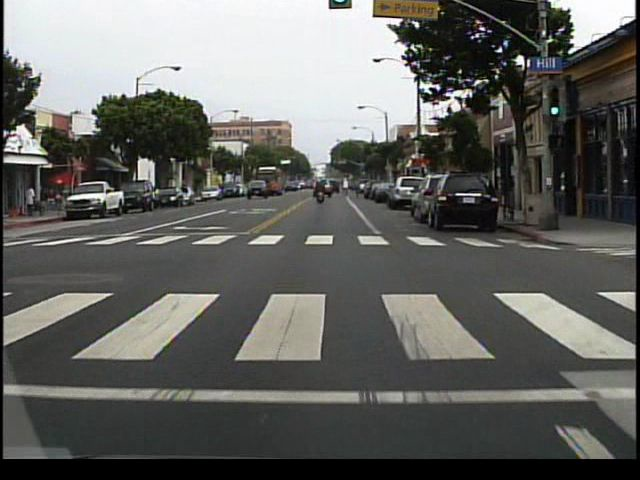person: (26, 182, 40, 219), (314, 182, 327, 209)
